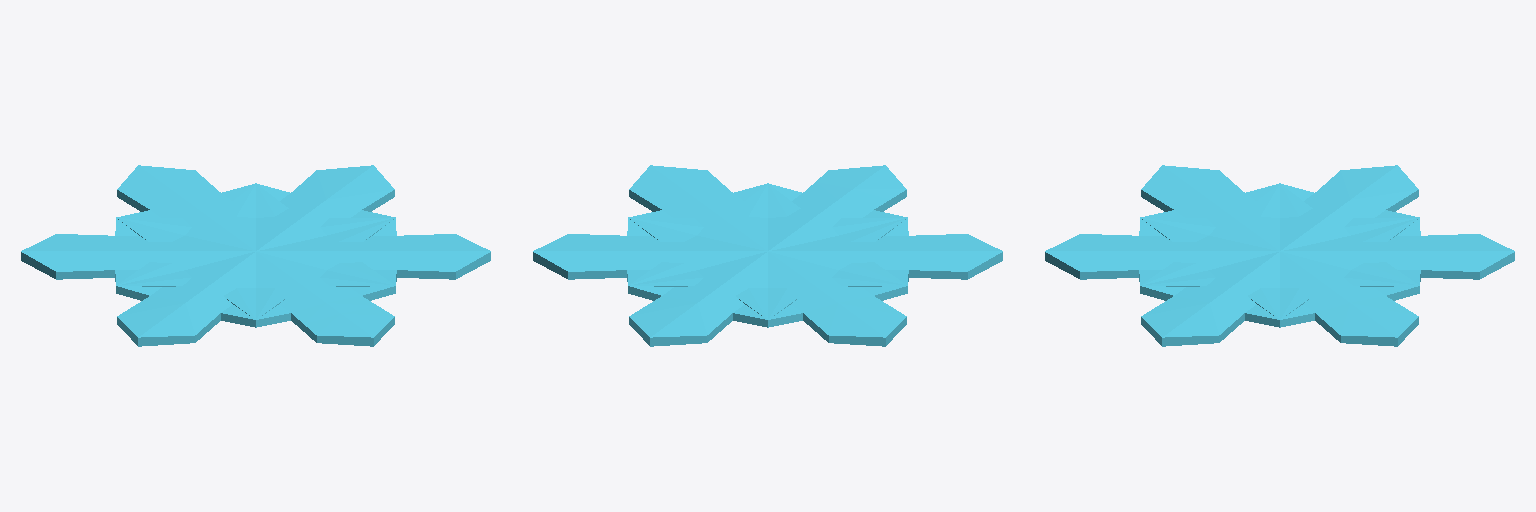
File: Fulg3.obj
3 views of the same model, side by side, from view 1: azimuth 30°, elevation 25°; view 2: azimuth 150°, elevation 25°; view 3: azimuth 270°, elevation 25° (orthographic).
Visible parts, largest first — view 1: Plane; view 2: Plane; view 3: Plane.
Boxes of the visible parts, x1=… form: Plane: x1=21, y1=165, x2=490, y2=346; Plane: x1=533, y1=165, x2=1002, y2=346; Plane: x1=1045, y1=165, x2=1514, y2=346.
Size of the model in its own units: 0.4072 by 0.0101 by 0.4702.